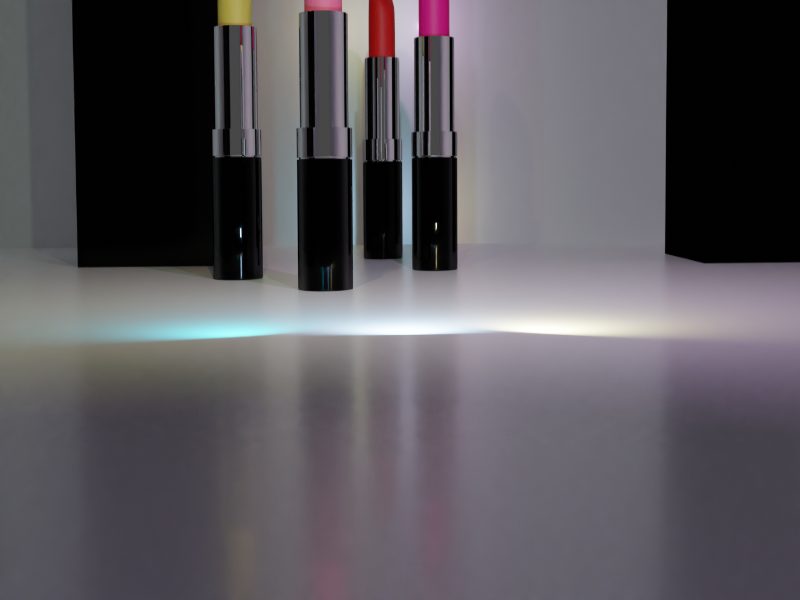lipstick: (298, 1, 355, 293), (213, 1, 266, 281), (415, 1, 460, 272), (364, 1, 406, 264)
